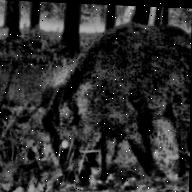boar: (39, 11, 192, 190)
